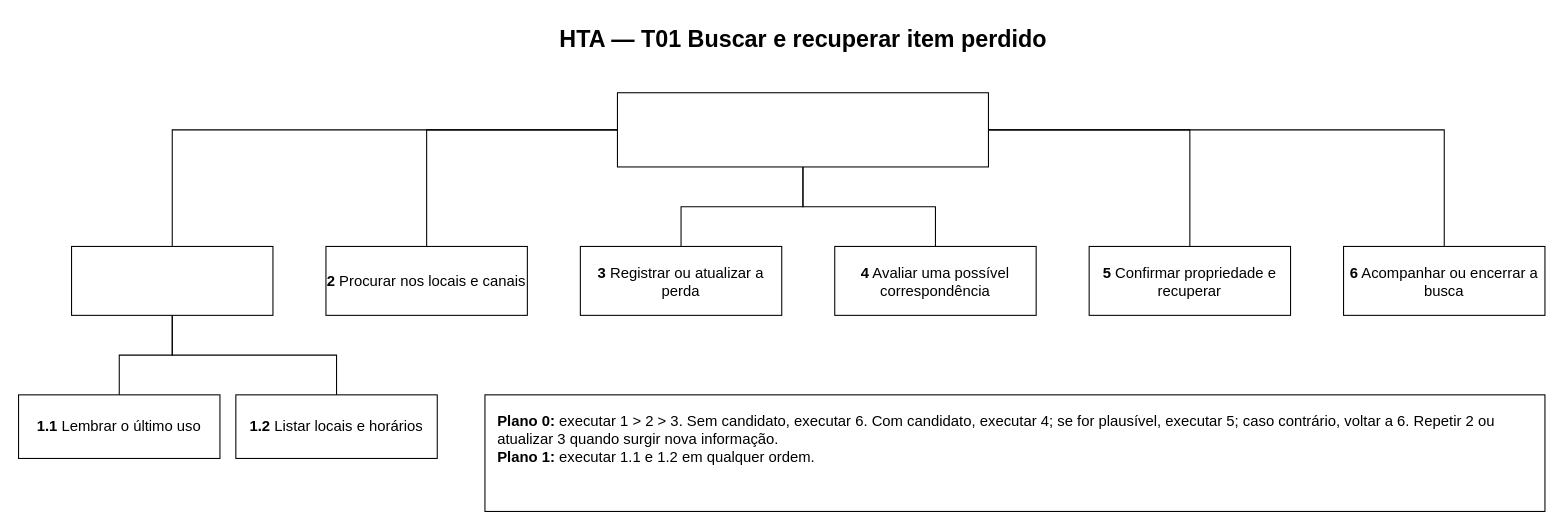
This 1563x530 diagram has some shape labels left out. The shapes that lost their labels are listed below. From the top down, each one's box as (x1, y1, x2, y2) in pixels, then its label:
(616, 92, 988, 167): 0 Buscar e recuperar o item perdido
(70, 245, 273, 315): 1 Reconstruir a perda
